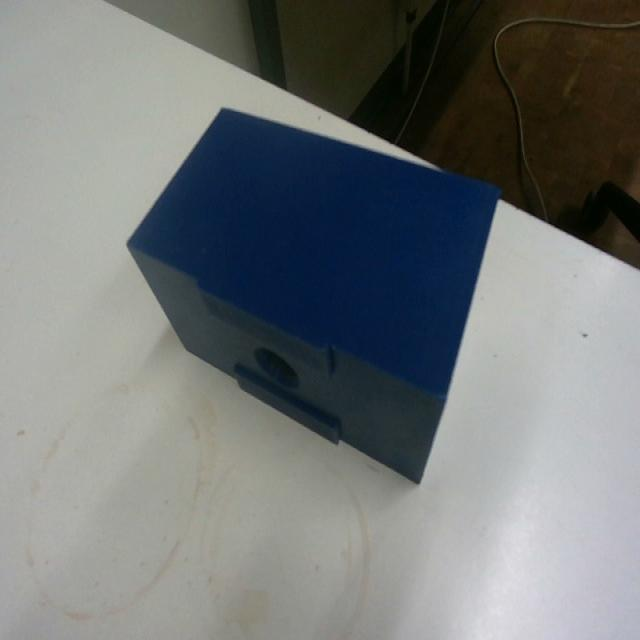Blue Cuboid: (124, 103, 502, 485)
